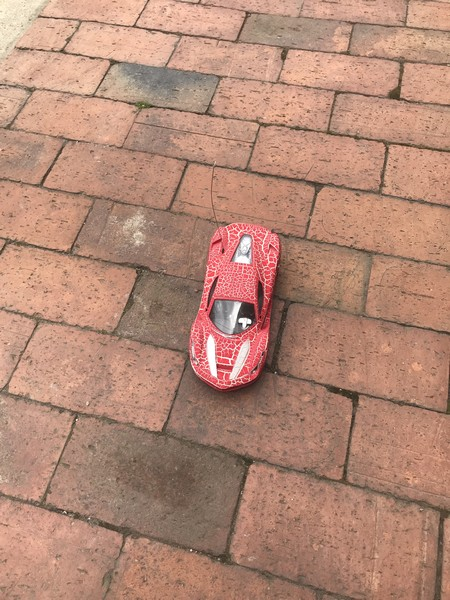RC: (185, 221, 284, 395)
